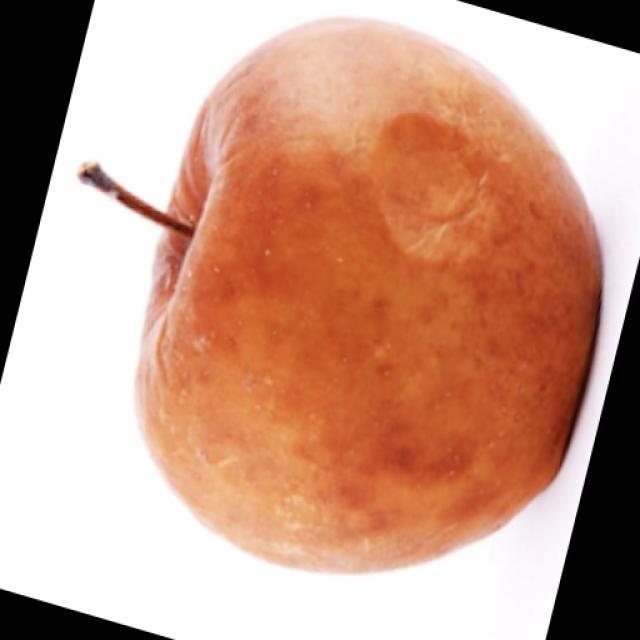Rotten: (167, 50, 630, 577)
